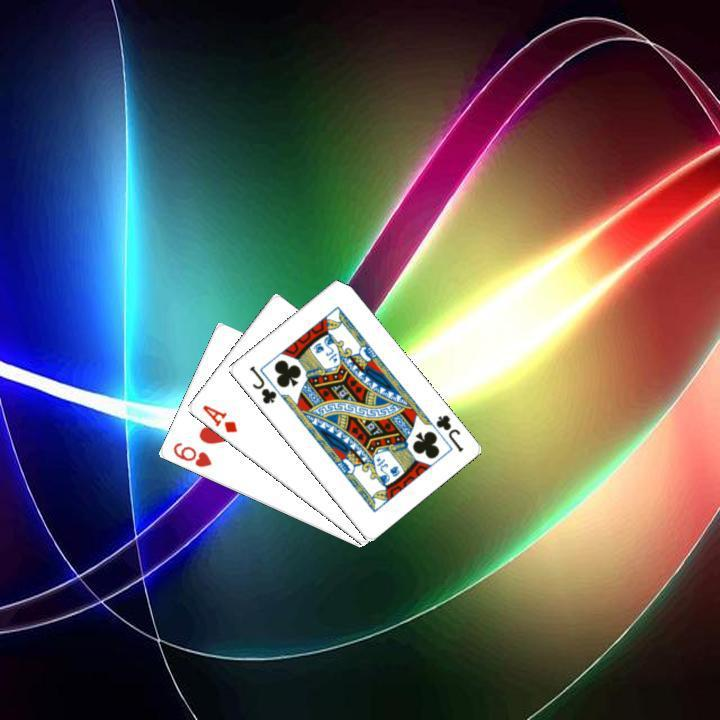6: (168, 438, 213, 470)
A: (197, 400, 239, 435)
J: (244, 361, 278, 406), (431, 410, 465, 454)
